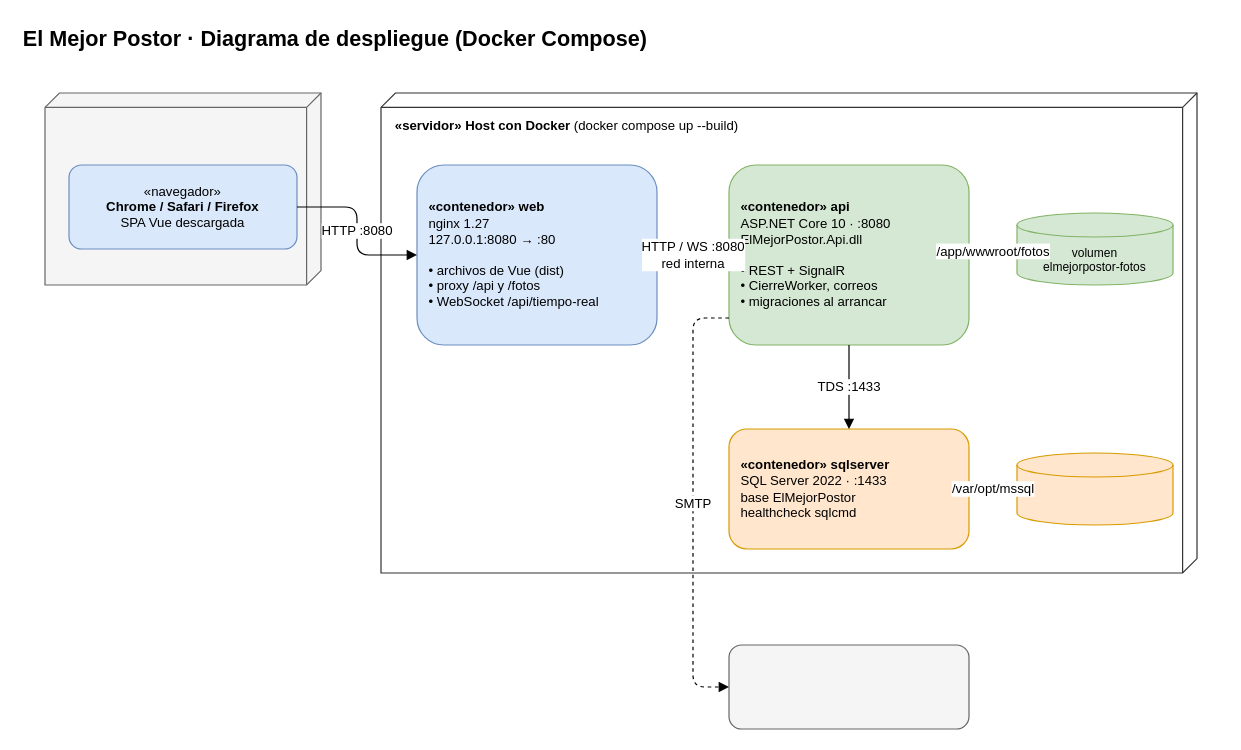
Some shapes in this 1241 by 750 pixel diagram are drawn without their labels. The shapes that lost their labels are listed below. From the top down, each one's box as (x1, y1, x2, y2) in pixels, then its label:
(44, 92, 321, 285): «dispositivo» Computadora o teléfono del usuario
(1016, 452, 1173, 525): volumen elmejorpostor-datos
(728, 644, 969, 729): Servidor SMTP (externo; en desarrollo los correos salen en la consola)
